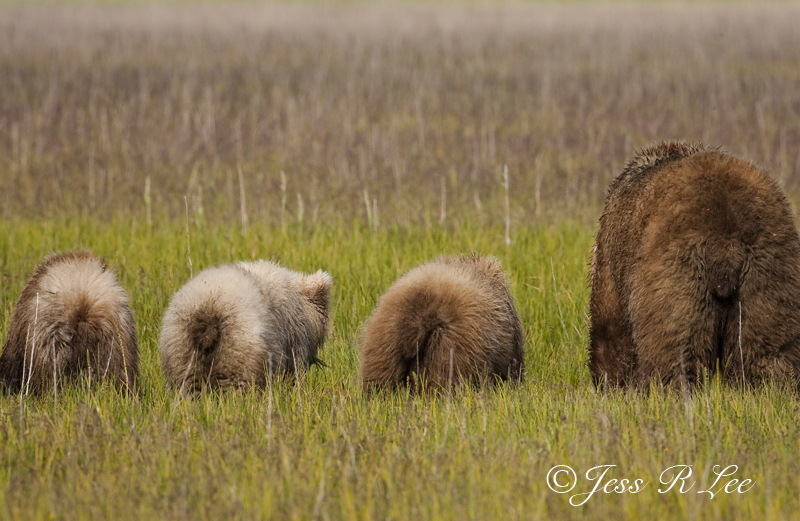bear: (585, 140, 800, 387), (364, 245, 529, 410), (158, 257, 340, 398), (1, 249, 145, 407)
